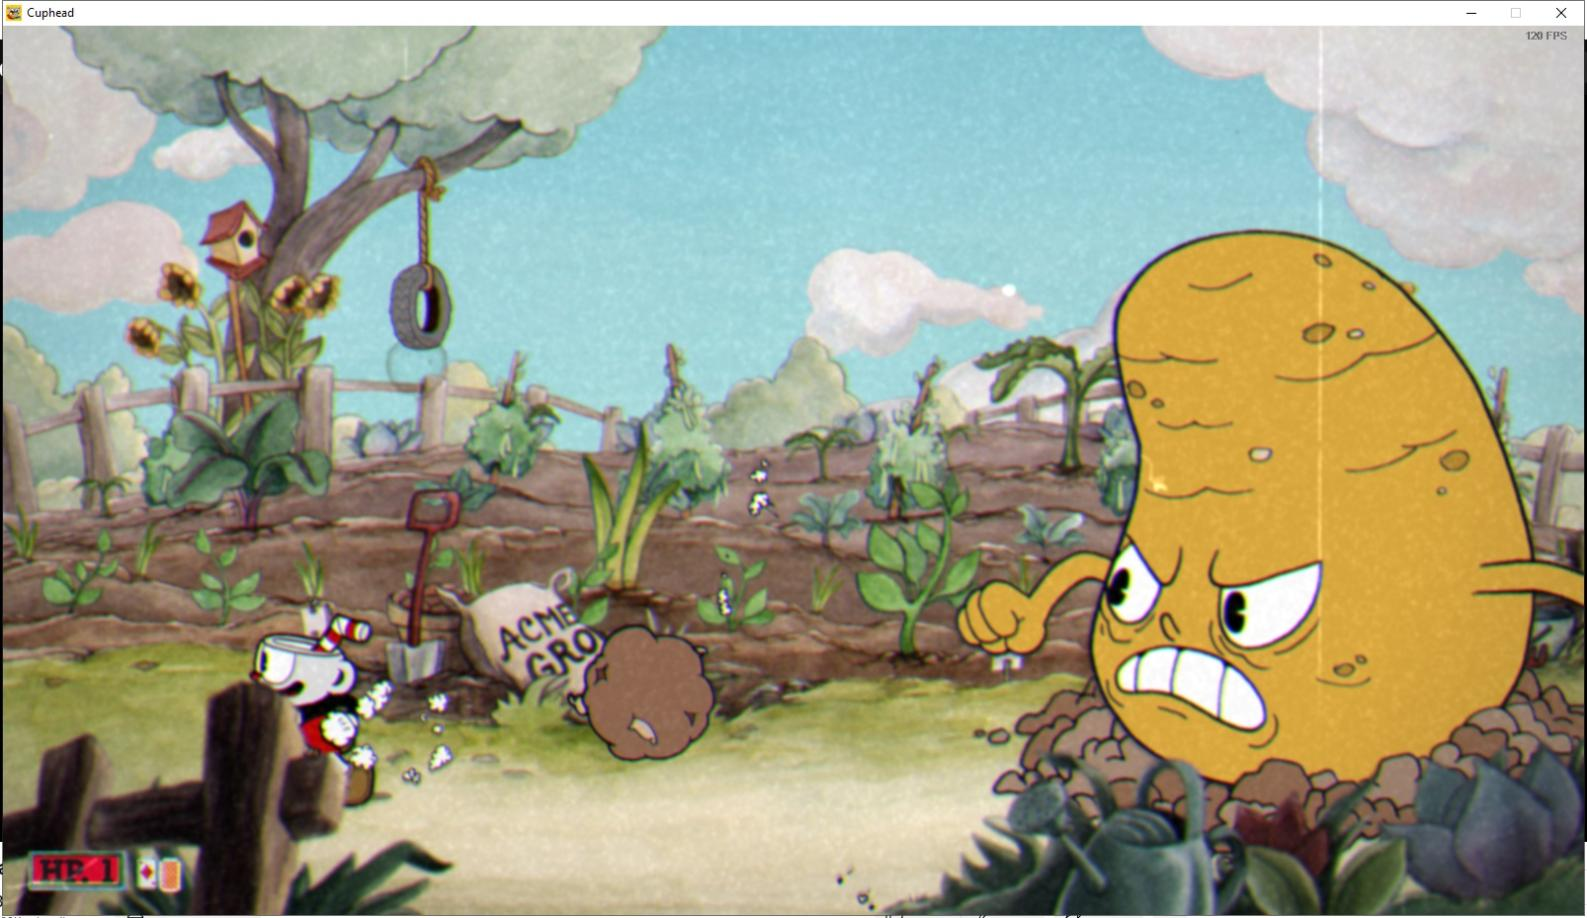dirt: (581, 625, 720, 768)
hp1: (91, 852, 122, 890)
player: (257, 584, 379, 814)
potato_boss: (1094, 221, 1540, 796)
